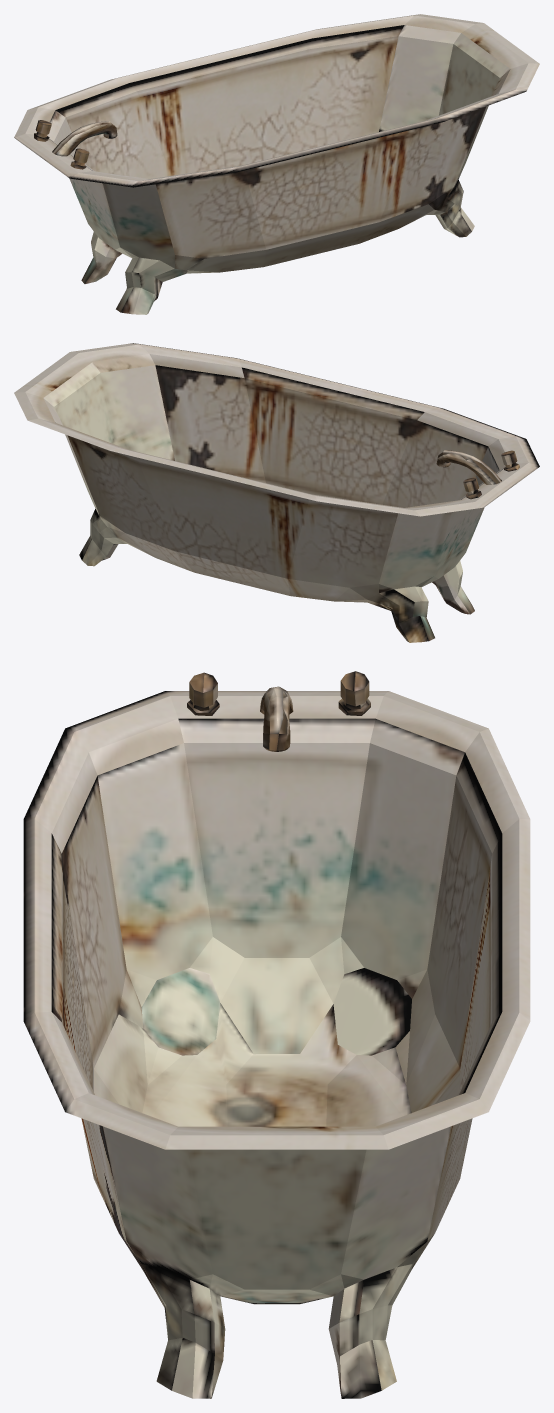
The model's file is BathTub 1.fbx.
3 views of the same model, one above another, from view 1: azimuth 30°, elevation 25°; view 2: azimuth 150°, elevation 25°; view 3: azimuth 270°, elevation 25° (orthographic). The views are drawn at different scales.
Parts seen in each view (by area): view 1: Cube.001; view 2: Cube.001; view 3: Cube.001.
Boxes of the visible parts, x1,y1,x2,y2 form: Cube.001: (14,14,539,314); Cube.001: (14,343,539,642); Cube.001: (23,671,530,1398).
Bounding box in the file's own units: 174 × 61.87 × 81.17.
